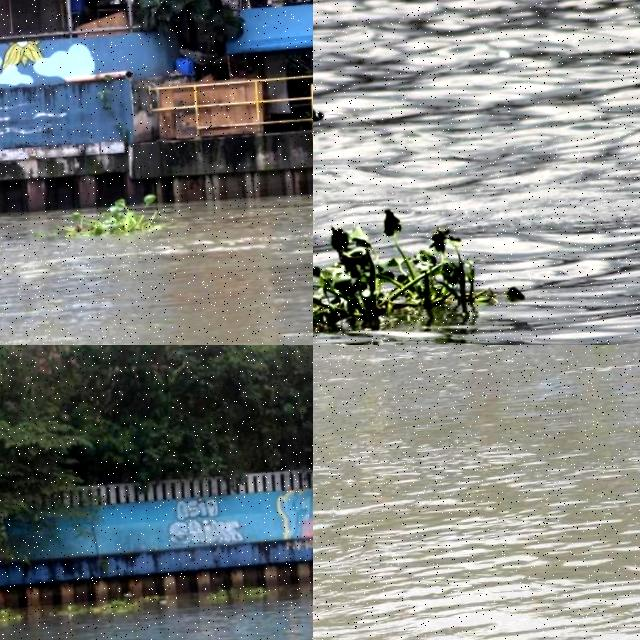water-hyacinth: (314, 202, 492, 334), (58, 193, 166, 242), (48, 591, 161, 620), (209, 584, 272, 603), (1, 608, 23, 623)
